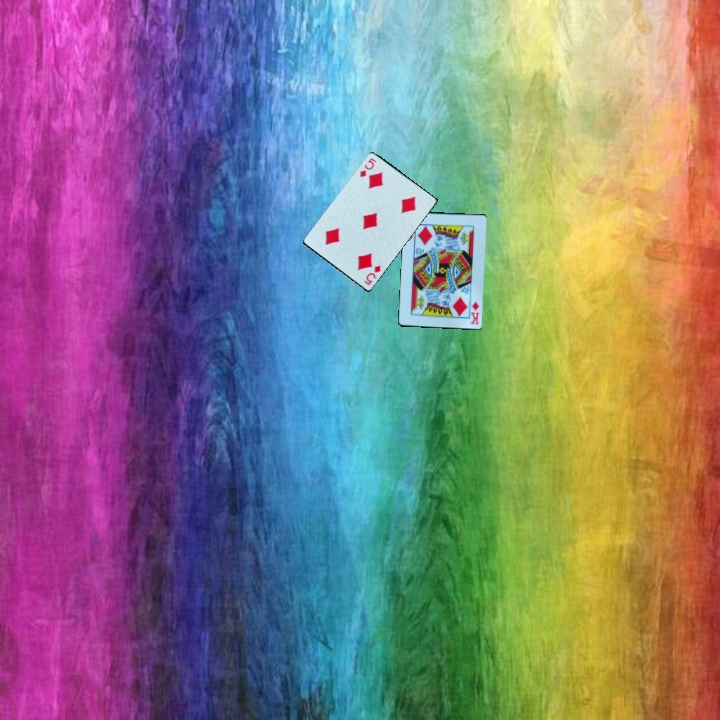5d: (360, 261, 383, 288), (356, 154, 379, 180)
Kd: (467, 298, 482, 327)
